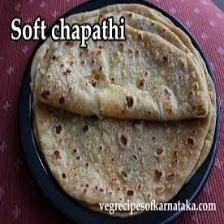roti: (31, 42, 219, 200)
